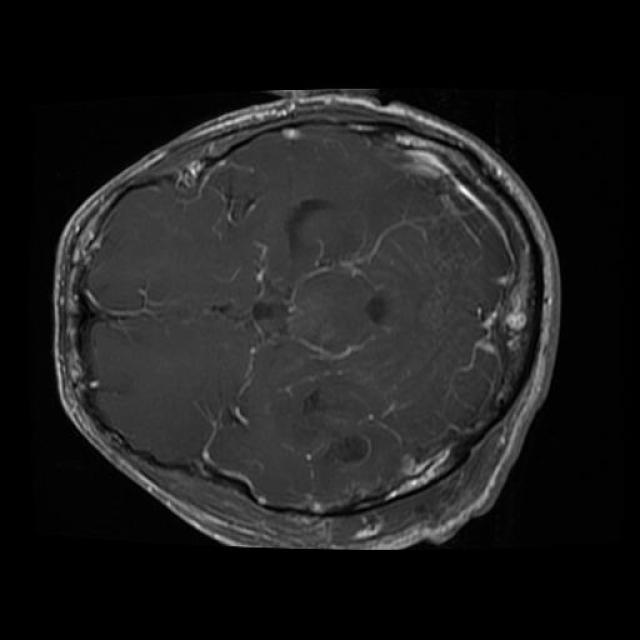Glioma: (288, 272, 336, 347)
